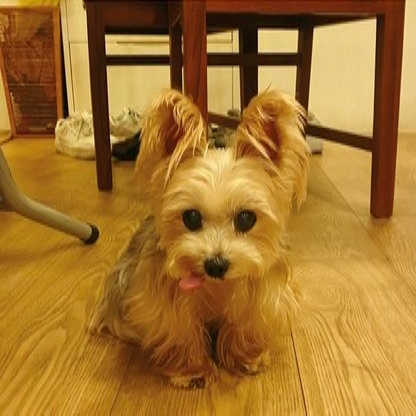yorkshire: (96, 82, 316, 388)
